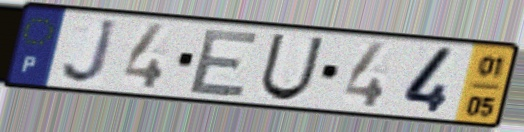4: (399, 44, 458, 118), (341, 39, 388, 111), (120, 21, 167, 93)
E: (185, 27, 263, 99)
J: (59, 17, 121, 87)
U: (256, 31, 327, 103)
